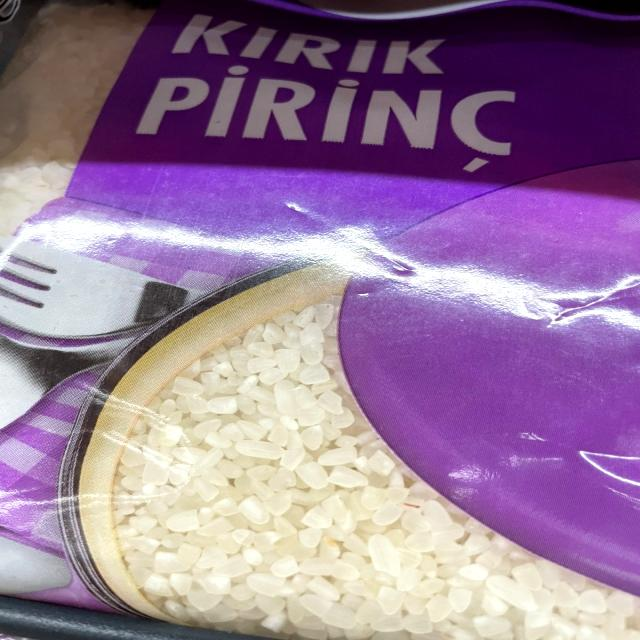rice: (165, 392, 363, 589)
